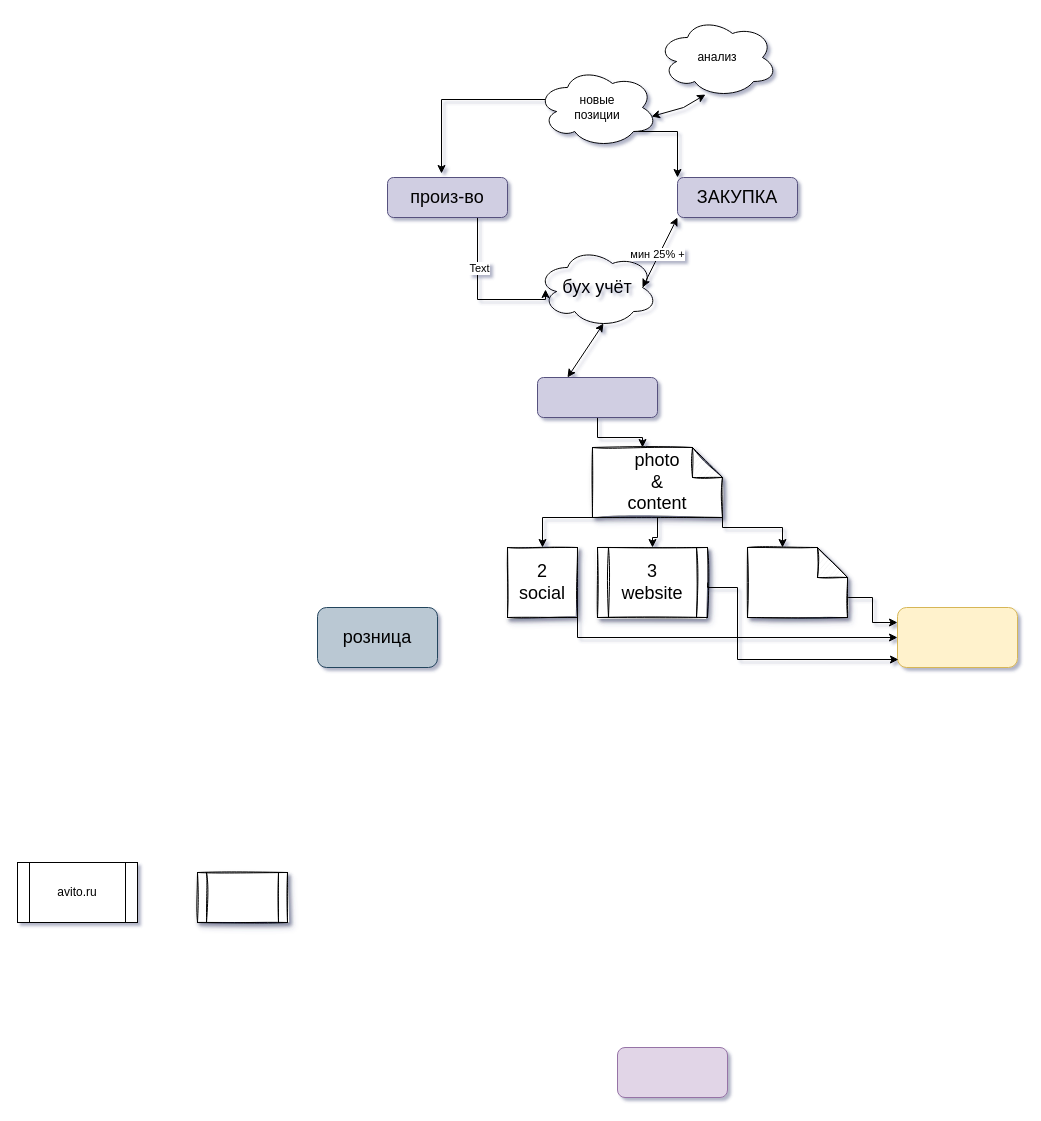
This 1041x1121 diagram has some shape labels left out. The shapes that lost their labels are listed below. From the top down, each one's centre as x and y in pixels, then its label:
At [597,397]: "ПРОДАЖИ".
At [798,583]: "1 price".
At [957,637]: "опт".
At [243,899]: "vk".
At [672,1072]: "СКЛАД".
